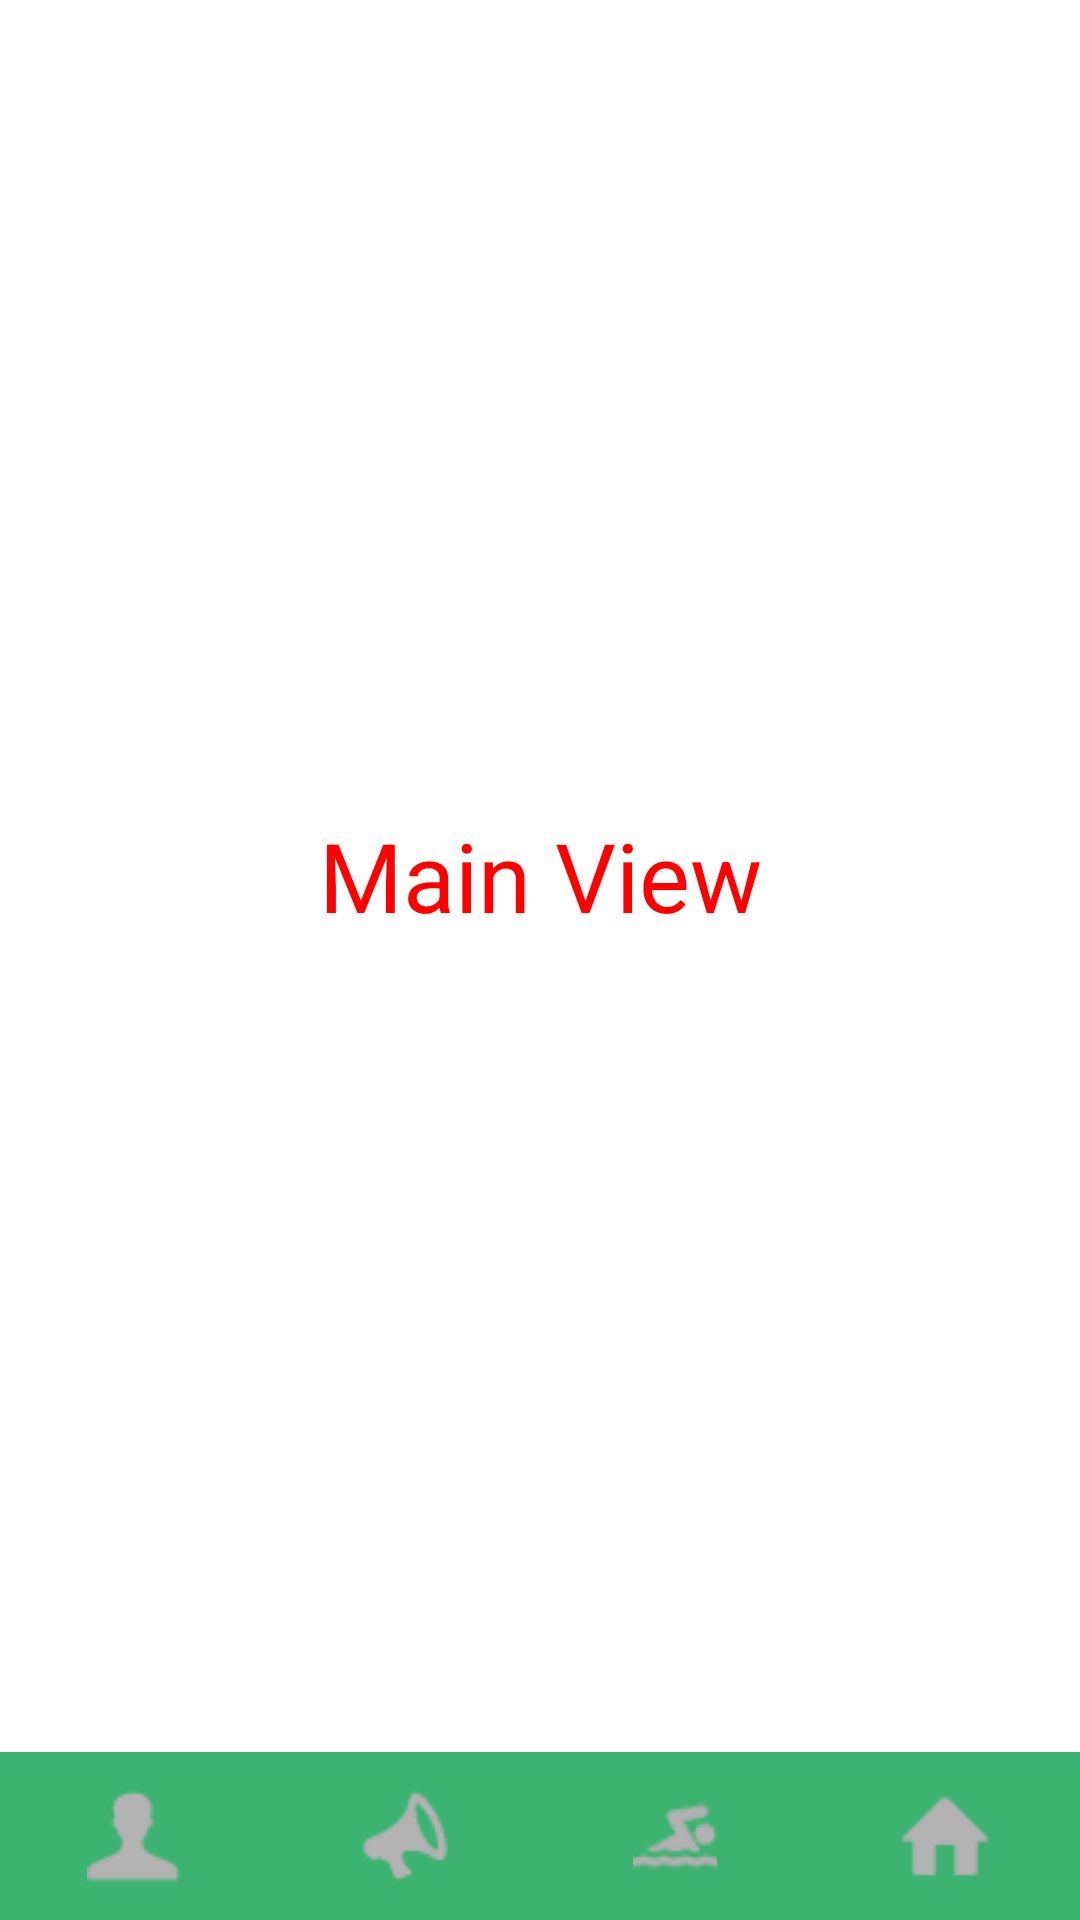

Locate icon controls on the screen. Image size 1080px×1920px, boxes as (x1, y1, x2, y2).
house: (902, 1796, 988, 1876)
megaphone: (362, 1792, 448, 1880)
swim: (633, 1804, 717, 1868)
user: (87, 1791, 179, 1881)
